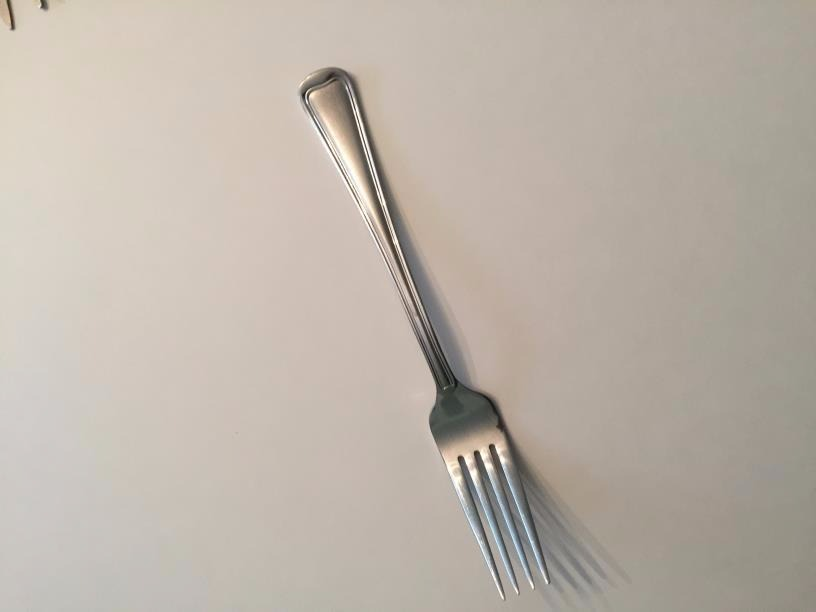fork: (253, 53, 638, 608)
